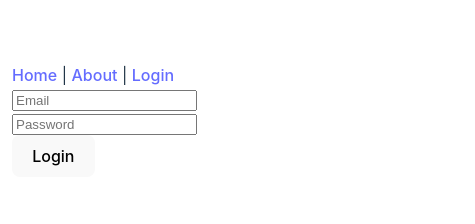
Scenario: logs in as admin and redirects to admin dashboard
Type "admin@gmail.com" into the field with placeholder "Email". click: {"x": 104, "y": 101}
box: left=12, top=90, right=197, bottom=111
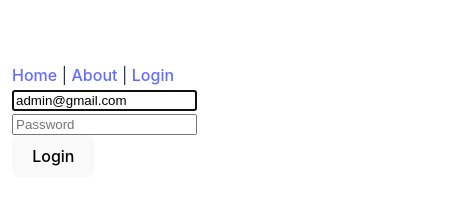
Type "p@ssword" into the password field with placeholder "Password". click: {"x": 104, "y": 125}
box: left=12, top=114, right=197, bottom=135
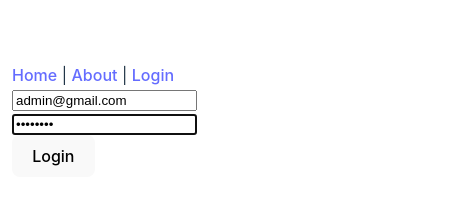
Click the button "Login". click: {"x": 53, "y": 156}
box: left=12, top=135, right=95, bottom=177
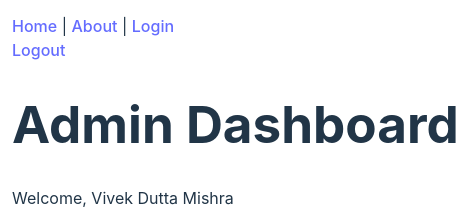
expect the heading "Admin Dashboard" is shown: met, box left=12, top=96, right=459, bottom=152
